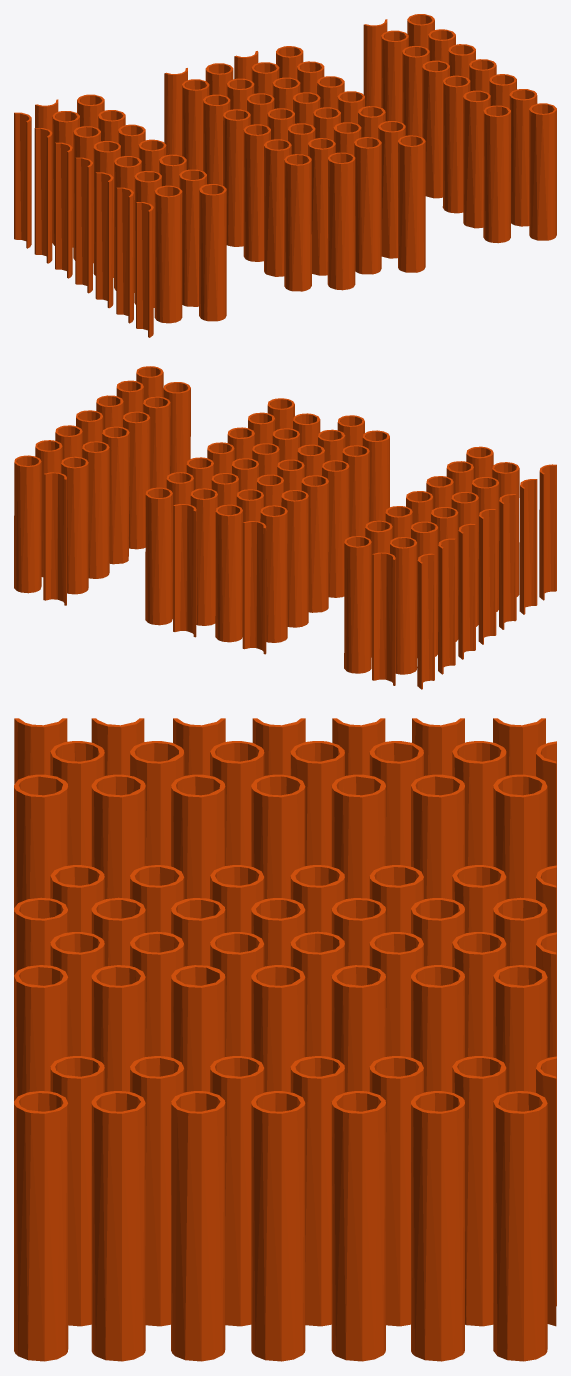
File: OxideHoles.fbx
3 views of the same model, one above another, from view 1: azimuth 30°, elevation 25°; view 2: azimuth 150°, elevation 25°; view 3: azimuth 270°, elevation 25° (orthographic). The views are drawn at different scales.
Visible parts, largest first — view 1: OxideHoles; view 2: OxideHoles; view 3: OxideHoles.
Part boxes in pixels (box(x1,y1,x2,y2)): OxideHoles: box(14, 14, 556, 337); OxideHoles: box(14, 366, 556, 689); OxideHoles: box(14, 718, 556, 1361).
Size of the model in its own units: 4.48 by 1.31 by 2.6.
